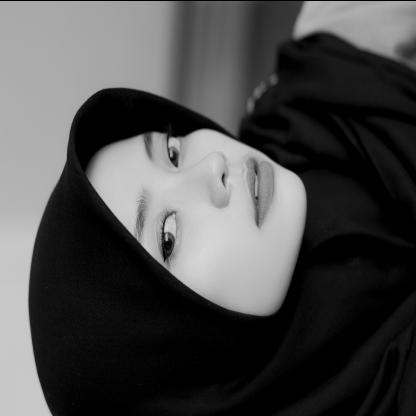Eye: (158, 200, 180, 264), (163, 132, 182, 168)
Mouth: (242, 152, 275, 231)
Nose: (188, 146, 232, 210)
